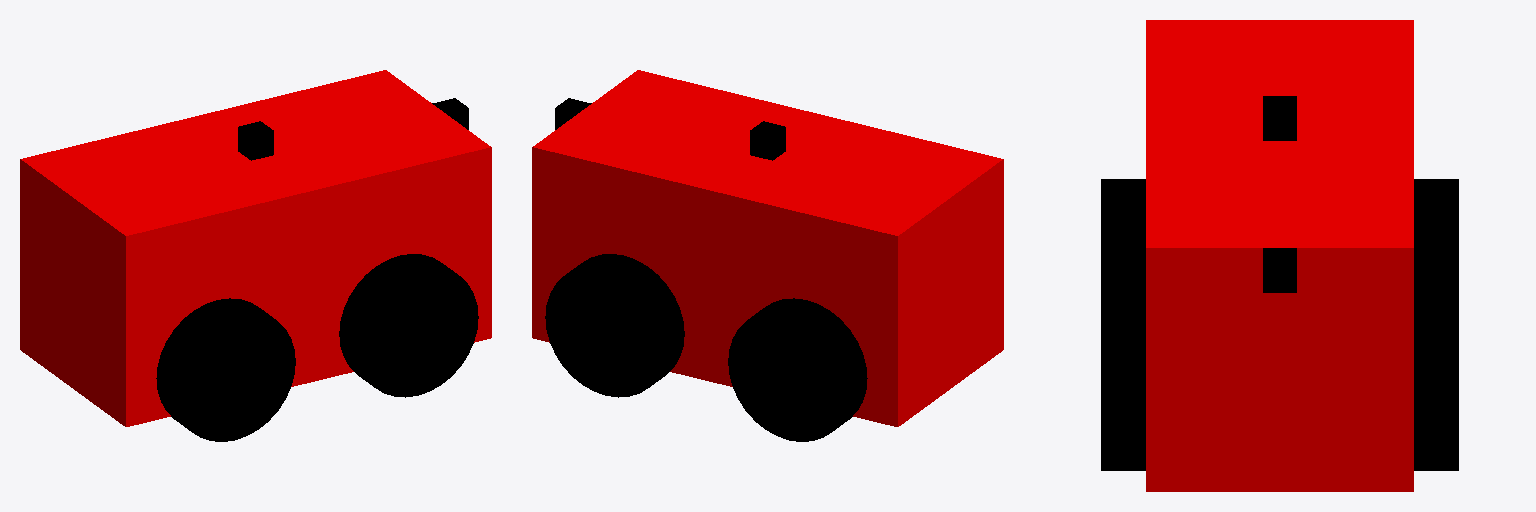
robot.urdf — skid_rob:
<?xml version="1.0"?>

<robot name="skid_rob">
 <!-- Base footprint - ground projection of the robot -->
 <link name="base_footprint"/>

 <joint name="base_footprint_joint" type="fixed">
    <parent link="base_footprint"/>
    <child link="base_link"/>
    <origin xyz="0 0 0.15" rpy="0 0 0"/>
 </joint>

 <!-- Dijelovi robota-->
 <link name="base_link"> 
 <visual> 
    <geometry> 
        <box size="0.6 0.3 0.3"/> 
    </geometry> 
        <material name="red"> 
            <color rgba="1.0 0 0 1"/> 
        </material> 
 </visual> 
 <collision> 
    <geometry> 
        <box size="0.6 0.3 0.3"/> 
    </geometry> 
 </collision> 
 <inertial> 
    <mass value="1.0"/> 
    <inertia ixx="0.03" iyy="0.0208" izz="0.0208" ixy="0" ixz="0" iyz="0"/> 
 </inertial> 
 </link>


<link name= "left_front_wheel"> 
    <visual>
        <geometry>
            <cylinder length= "0.05" radius= "0.1"/>
        </geometry>
        <material name= "black">
            <color rgba= "0 0 0 1"/>
        </material>
    </visual>
    <collision>
        <geometry>
            <cylinder length= "0.05" radius= "0.1"/>
        </geometry>
    </collision>
    <inertial>
        <mass value= "0.1"/>
        <inertia ixx= "0.00027" iyy= "0.00027" izz= "0.0005" ixy= "0" ixz= "0" iyz= "0"/>
    </inertial>
</link>

<link name= "right_front_wheel">
    <visual>
        <geometry>
            <cylinder length= "0.05" radius= "0.1"/>
        </geometry>
        <material name= "black">
            <color rgba= "0 0 0 1"/>
        </material>
    </visual>
    <collision>
        <geometry>
            <cylinder length= "0.05" radius= "0.1"/>
        </geometry>
    </collision>
    <inertial>
        <mass value= "0.1"/>
        <inertia ixx= "0.00027" iyy= "0.00027" izz= "0.0005" ixy= "0" ixz= "0" iyz= "0"/>
    </inertial>
</link>

<link name= "left_rear_wheel"> 
    <visual>
        <geometry>
            <cylinder length= "0.05" radius= "0.1"/>
        </geometry>
        <material name= "black">
            <color rgba= "0 0 0 1"/>
        </material>
    </visual>
    <collision>
        <geometry>
            <cylinder length= "0.05" radius= "0.1"/>
        </geometry>
    </collision>
    <inertial>
        <mass value= "0.1"/>
        <inertia ixx= "0.00027" iyy= "0.00027" izz= "0.0005" ixy= "0" ixz= "0" iyz= "0"/>
    </inertial>
</link>

<link name= "right_rear_wheel">
    <visual>
        <geometry>
            <cylinder length= "0.05" radius= "0.1"/>
        </geometry>
        <material name= "black">
            <color rgba= "0 0 0 1"/>
        </material>
    </visual>
    <collision>
        <geometry>
            <cylinder length= "0.05" radius= "0.1"/>
        </geometry>
    </collision>
    <inertial>
        <mass value= "0.1"/>
        <inertia ixx= "0.00027" iyy= "0.00027" izz= "0.0005" ixy= "0" ixz= "0" iyz= "0"/>
    </inertial>
</link>

<joint name= "left_front_wheel_joint" type="continuous">
    <axis xyz= "0 0 1"/>
    <parent link= "base_link"/>
    <child link= "left_front_wheel"/>
    <origin rpy= "-1.5708 0 0" xyz= "0.15 0.175 -0.085"/>
</joint>

<joint name= "right_front_wheel_joint" type="continuous">
    <axis xyz= "0 0 1"/>
    <parent link= "base_link"/>
    <child link= "right_front_wheel"/>
    <origin rpy= "-1.5708 0 0" xyz= "0.15 -0.175 -.085"/>
</joint>

<joint name= "left_rear_wheel_joint" type="continuous">
    <axis xyz= "0 0 1"/>
    <parent link= "base_link"/>
    <child link= "left_rear_wheel"/>
    <origin rpy= "-1.5708 0 0" xyz= "-0.15 0.175 -0.085"/>
</joint>

<joint name= "right_rear_wheel_joint" type="continuous">
    <axis xyz= "0 0 1"/>
    <parent link= "base_link"/>
    <child link= "right_rear_wheel"/>
    <origin rpy= "-1.5708 0 0" xyz= "-0.15 -0.175 -.085"/>
</joint>

<link name= "camera_link">
    <visual>
        <geometry>
            <box size= "0.038 0.038 0.038"/>
        </geometry>
        <material name="black"/>
    </visual>
    <collision>
        <geometry>
            <box size= "0.038 0.038 0.038"/>
        </geometry>
    </collision>
    <inertial>
        <mass value= "1e-5"/>
        <inertia ixx= "6.65e-8" iyy= "4.56e-9" izz= "6.86e-8" ixy= "0" ixz= "0" iyz= "0"/>
    </inertial>
</link>

<link name= "laser_link">
    <visual>
        <geometry>
            <box size= "0.038 0.038 0.038"/>
        </geometry>
        <material name="black"/>
    </visual>
    <collision>
        <geometry>
            <box size= "0.038 0.038 0.038"/>
        </geometry>
    </collision>
    <inertial>
        <mass value= "1e-5"/>
        <inertia ixx= "6.65e-8" iyy= "4.56e-9" izz= "6.86e-8" ixy= "0" ixz= "0" iyz= "0"/>
    </inertial>
</link>

<joint name= "laser_joint" type="fixed">
    <axis xyz= "0 1 0"/>
    <parent link= "base_link"/>
    <child link= "laser_link"/>
    <origin rpy= "0 0 0" xyz= "0 0 0.169"/>
</joint>

<joint name= "camera_joint" type="fixed">
    <axis xyz= "0 1 0"/>
    <parent link= "base_link"/>
    <child link= "camera_link"/>
    <origin rpy= "0 0 0" xyz= "0.319 0 0.131"/>
</joint>

<joint name="camera_rgb_joint" type="fixed">
    <origin xyz="0.0318 0 0.0" rpy="0 0 0"/>
    <parent link="camera_link"/>
    <child link="camera_rgb_frame" />
</joint>
<link name="camera_rgb_frame"/>


<gazebo reference="base_link">
    <material>Gazebo/Red</material>
</gazebo>
<gazebo reference="left_front_wheel">
    <material>Gazebo/Black</material>
</gazebo>
<gazebo reference="right_front_wheel">
    <material>Gazebo/Black</material>
</gazebo>
<gazebo reference="left_rear_wheel">
    <material>Gazebo/Black</material>
</gazebo>
<gazebo reference="right_rear_wheel">
    <material>Gazebo/Black</material>
</gazebo>
<gazebo reference="camera_link">
    <material>Gazebo/Black</material>
</gazebo>
<gazebo reference="laser_link">
    <material>Gazebo/Black</material>
</gazebo>

 <gazebo>
    <plugin name="skid_steer_drive_controller" filename="libgazebo_ros_skid_steer_drive.so">
        <updateRate>100.0</updateRate>
        <robotNamespace>/</robotNamespace>
        <leftFrontJoint>left_front_wheel_joint</leftFrontJoint>
        <rightFrontJoint>right_front_wheel_joint</rightFrontJoint>
        <leftRearJoint>left_rear_wheel_joint</leftRearJoint>
        <rightRearJoint>right_rear_wheel_joint</rightRearJoint>
        <wheelSeparation>0.3</wheelSeparation>
        <wheelDiameter>0.2</wheelDiameter>
        <robotBaseFrame>base_link</robotBaseFrame>
        <torque>20</torque>
        <commandTopic >cmd_vel</commandTopic>
        <odometryTopic>odom</odometryTopic>
        <odometryFrame>odom</odometryFrame>
        <broadcastTF>true</broadcastTF>
    </plugin>
 </gazebo>

 <gazebo>
    <plugin name= "joint_state_publisher" filename= "libgazebo_ros_joint_state_publisher.so">
        <jointName>left_front_wheel_joint, right_front_wheel_joint, left_rear_wheel_joint, right_rear_wheel_joint</jointName>
    </plugin>
</gazebo>


 <gazebo reference="camera_link">
    <sensor type="camera" name="camera">
        <update_rate>30.0</update_rate>
        <camera name="head">
            <horizontal_fov>1.3962634</horizontal_fov>
            <image>
                <width>800</width>
                <height>800</height>
                <format>R8G8B8</format>
            </image>
            <clip>
                <near>0.02</near>
                <far>300</far>
            </clip>
            <noise>
                <type>gaussian</type>
                <mean>0.0</mean>
                <stddev>0.007</stddev>
            </noise>
        </camera>
        <plugin name="camera_controller" filename="libgazebo_ros_camera.so">
            <alwaysOn>true</alwaysOn>
            <updateRate>0.0</updateRate>
            <cameraName>/camera</cameraName>
            <imageTopicName>image_raw</imageTopicName>
            <cameraInfoTopicName>camera_info</cameraInfoTopicName>
            <frameName>camera_optical_frame</frameName>
            <hackBaseline>0.07</hackBaseline>
            <distortionK1>0.0</distortionK1>
            <distortionK2>0.0</distortionK2>
            <distortionK3>0.0</distortionK3>
            <distortionT1>0.0</distortionT1>
            <distortionT2>0.0</distortionT2>
        </plugin>
    </sensor>
 </gazebo>

 <gazebo reference="laser_link">
    <sensor type="ray" name="head_hokuyo_sensor">
        <pose>0 0 0 0 0 0</pose>
        <visualize>false</visualize>
        <update_rate>40</update_rate>
        <ray>
            <scan>
                <horizontal>
                    <samples>720</samples>
                    <resolution>1</resolution>
                    <min_angle>-3.14</min_angle>
                    <max_angle>3.14</max_angle>
                </horizontal>
            </scan>
            <range>
                <min>0.10</min>
                <max>30.0</max>
                <resolution>0.01</resolution>
            </range>
            <noise>
                <type>gaussian</type>
                <mean>0.0</mean>
                <stddev>0.01</stddev>
            </noise>
        </ray>
        <plugin name="gazebo_ros_head_hokuyo_controller" filename="libgazebo_ros_laser.so">
            <topicName>/scan</topicName>
            <frameName>laser_link</frameName>
        </plugin>
    </sensor>
 </gazebo>

</robot>

--- What the picture shows (computed from the rendered views, not written in the file) ---
The picture shows the robot from 3 angles, left to right: view 1: azimuth 30°, elevation 25°; view 2: azimuth 150°, elevation 25°; view 3: azimuth 270°, elevation 25°; orthographic projection.
Model skid_rob with 9 links and 8 joints (4 continuous, 4 fixed), rooted at base_footprint, posed every joint at zero.
Links seen in each view (by area): view 1: base_link, right_front_wheel, right_rear_wheel, laser_link, camera_link; view 2: base_link, left_front_wheel, left_rear_wheel, laser_link, camera_link; view 3: base_link, left_front_wheel, right_front_wheel, left_rear_wheel, right_rear_wheel, camera_link, laser_link.
Link boxes in pixels (x1,y1,x2,y2): base_link: (20, 70, 491, 426); right_front_wheel: (339, 254, 478, 397); right_rear_wheel: (156, 298, 295, 441); laser_link: (238, 121, 273, 160); camera_link: (432, 98, 468, 129); base_link: (532, 70, 1003, 426); left_front_wheel: (545, 254, 684, 397); left_rear_wheel: (728, 298, 867, 441); laser_link: (750, 121, 785, 160); camera_link: (555, 98, 591, 129); base_link: (1146, 20, 1413, 491); left_front_wheel: (1414, 292, 1458, 470); right_front_wheel: (1101, 292, 1145, 470); left_rear_wheel: (1414, 179, 1458, 291); right_rear_wheel: (1101, 179, 1145, 291); camera_link: (1263, 248, 1296, 292); laser_link: (1263, 96, 1296, 140).
Size in the robot's own frame: 0.638 by 0.4 by 0.373 metres.
Geometry: primitives only (box / cylinder / sphere), no mesh files.
